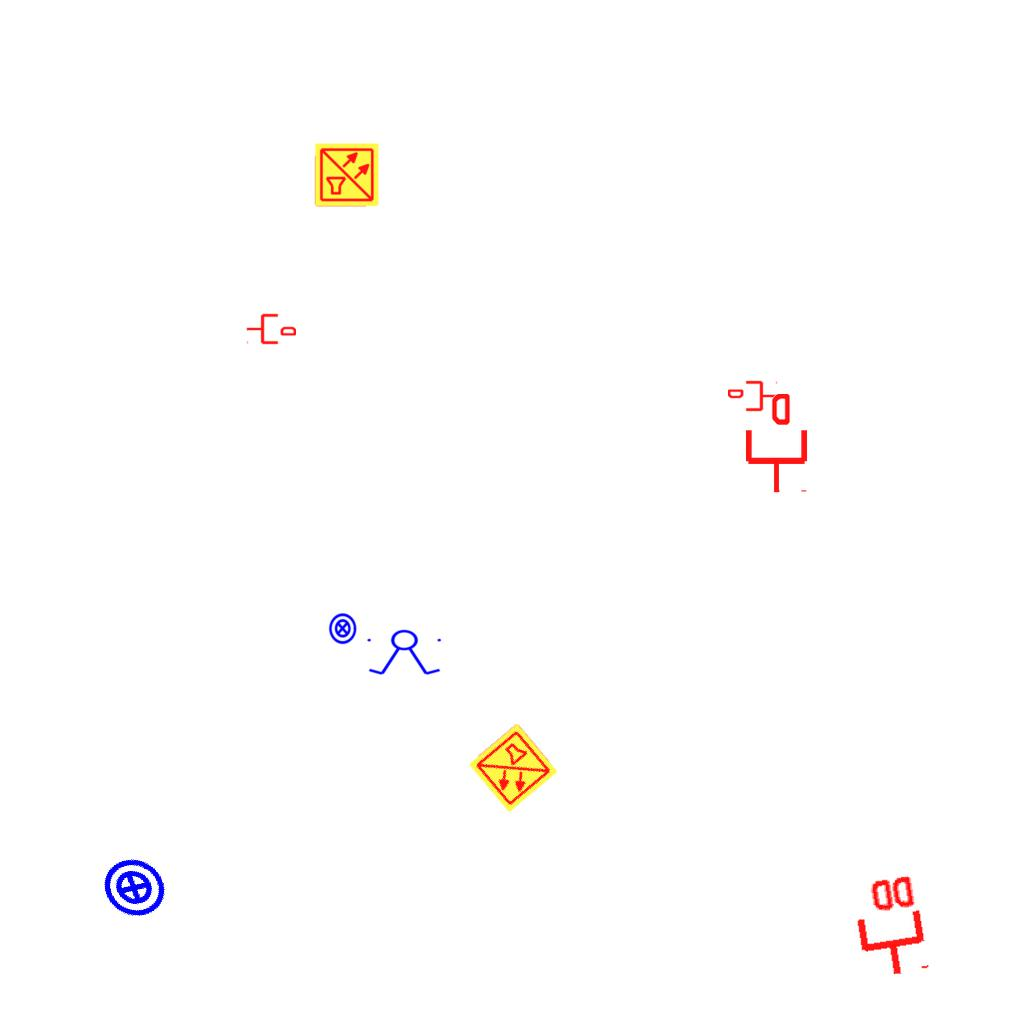Datenanschluss_einfach: (742, 394, 811, 494), (246, 312, 296, 346), (728, 379, 778, 413)
Datenanschluss_zweifach: (846, 870, 931, 983)
OKW_Multisensormelder_(Kombination_optischer_Rauch-Kahlenmonoxid_Waerme-Melder): (466, 721, 560, 815), (314, 142, 380, 208)
Serienschalter: (363, 629, 447, 677)
Taster_beleuchtet: (89, 843, 179, 933), (326, 612, 359, 645)
